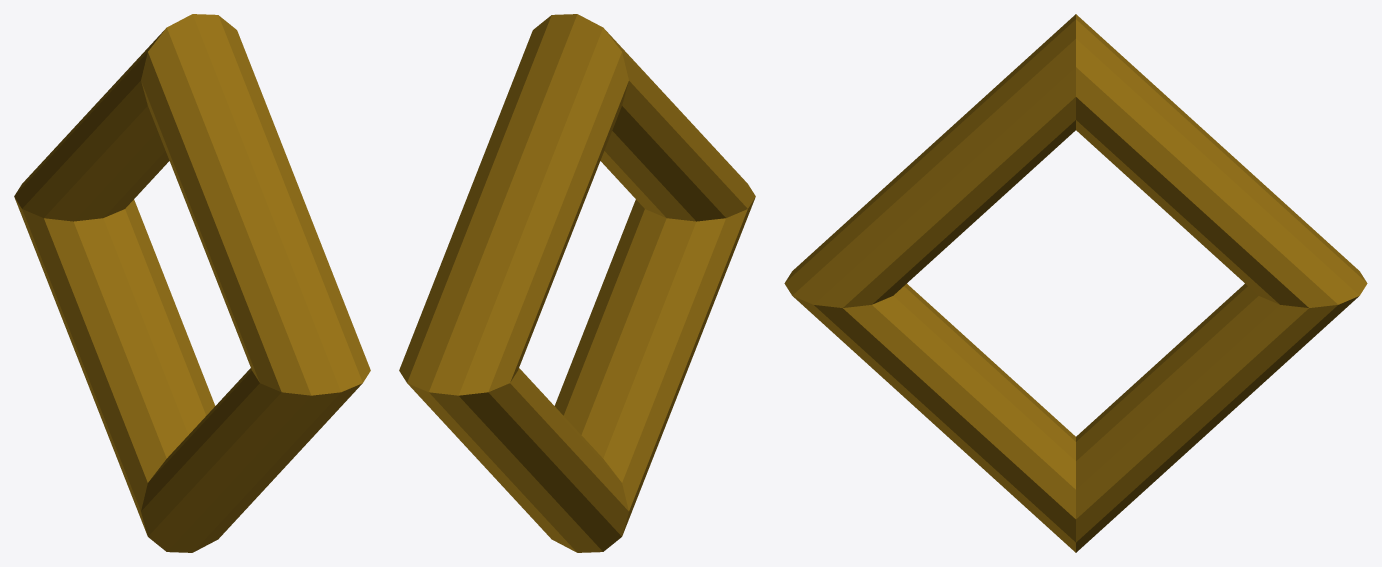
Rendered from Ring.fbx.
The picture shows the model from 3 angles, left to right: view 1: azimuth 30°, elevation 25°; view 2: azimuth 150°, elevation 25°; view 3: azimuth 270°, elevation 25°; orthographic projection.
Visible parts, largest first — view 1: Torus; view 2: Torus; view 3: Torus.
Part boxes in pixels (x1,y1,x2,y2): Torus: (14, 14, 370, 552); Torus: (399, 14, 755, 552); Torus: (784, 14, 1367, 552).
Bounding box in the file's own units: 50 × 250 × 250.
